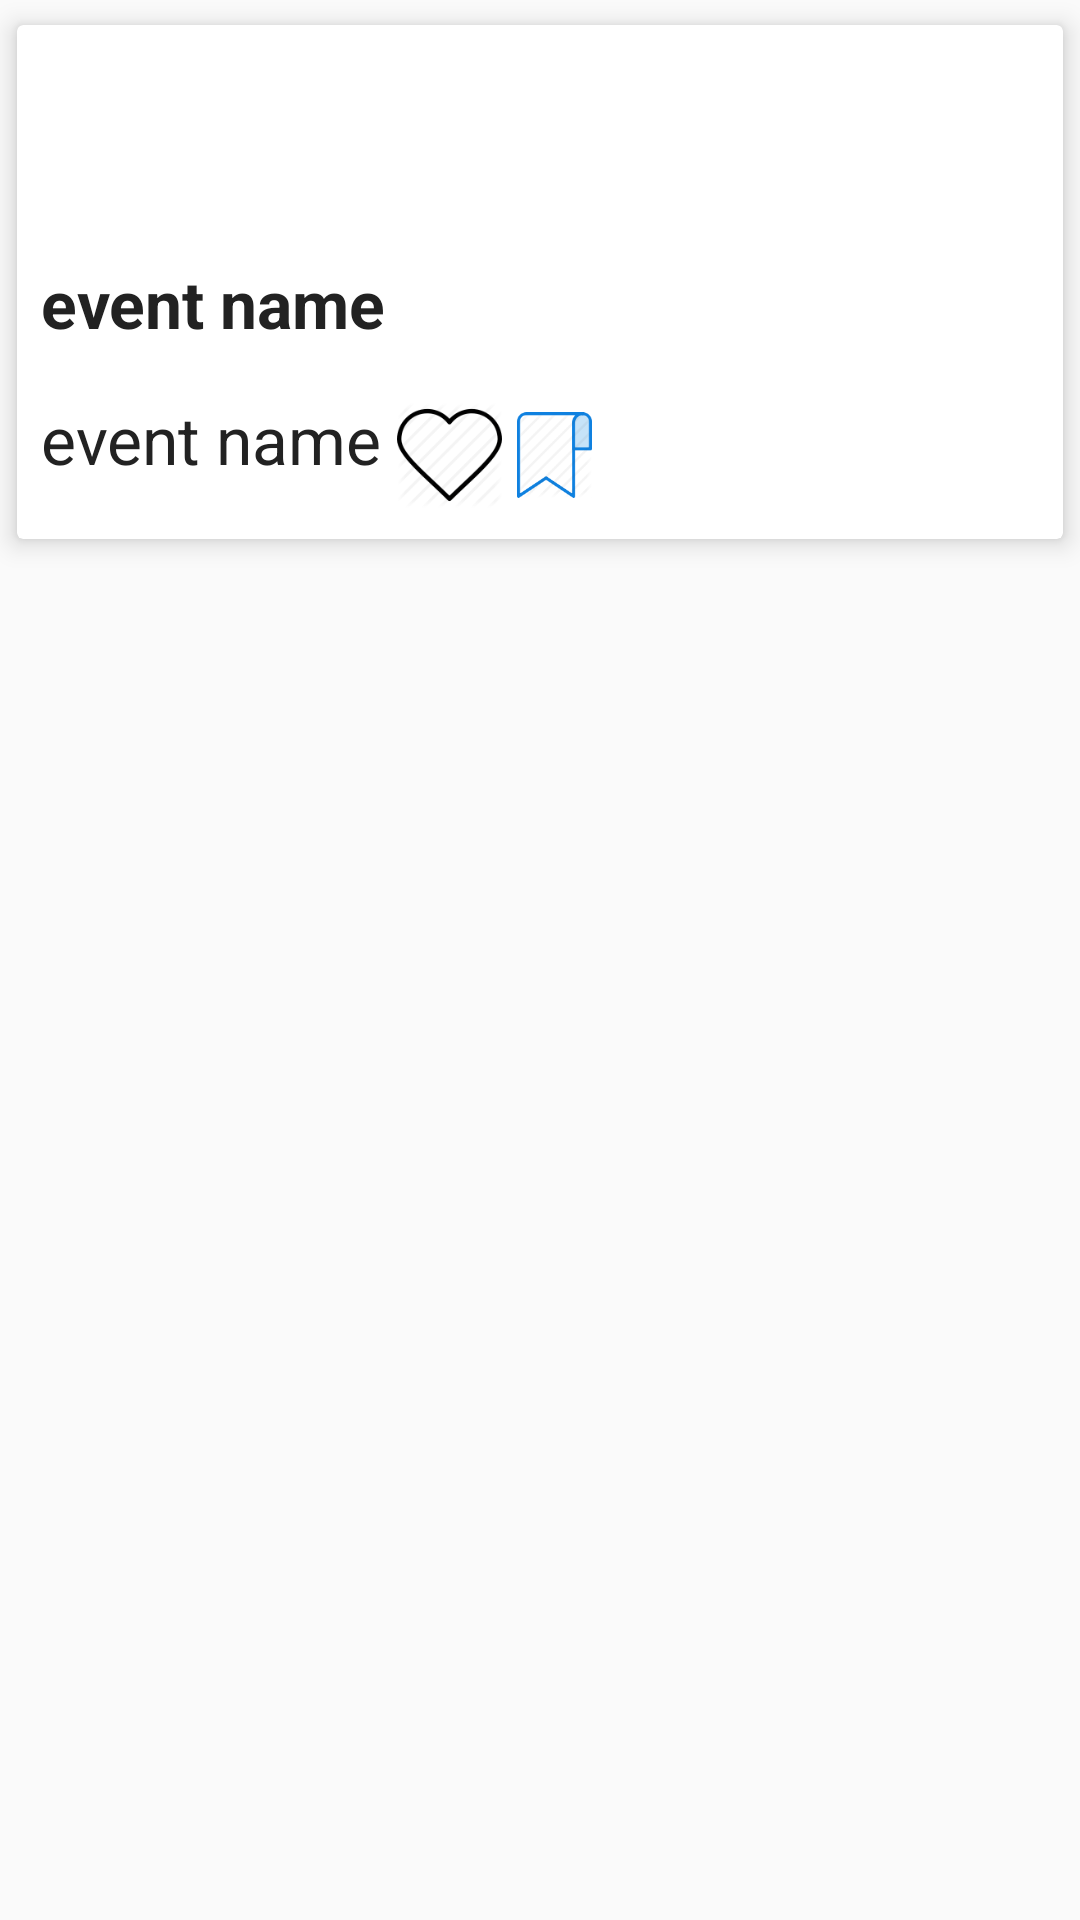

Icon click points for this 1080x1920 phone screenshot, format [x,y]:
blackheart: [449,454]
open bm: [554,455]
